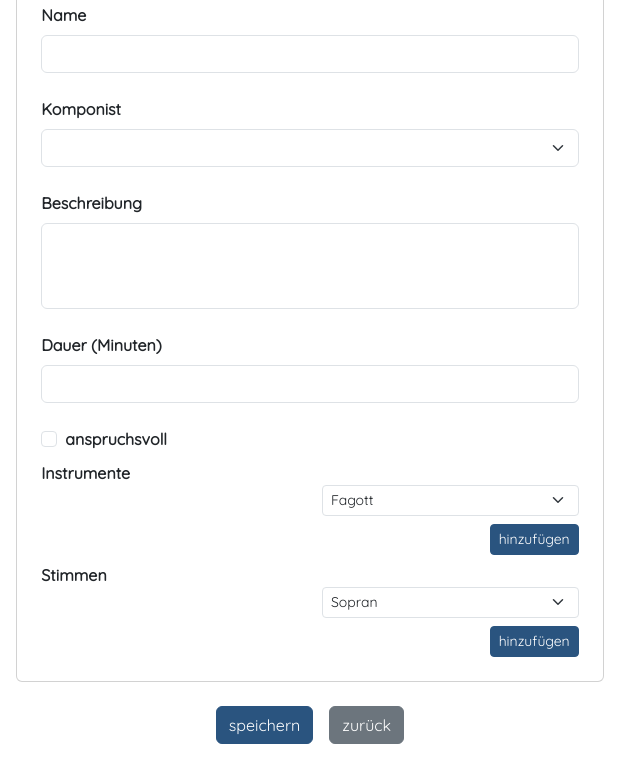
Scenario: OrdinariumworkFormView › shows the setup validation error under the setup section
(page scrolled)
Click the button "speichern": [265, 724] box [216,706,313,744]
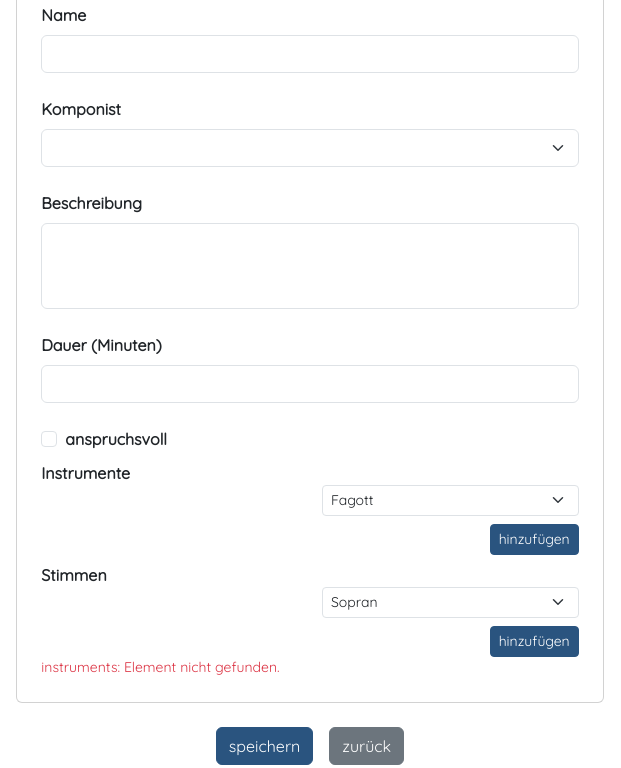
Expected: the text "instruments: Element nicht gefunden." is shown, [41,658,280,676]
